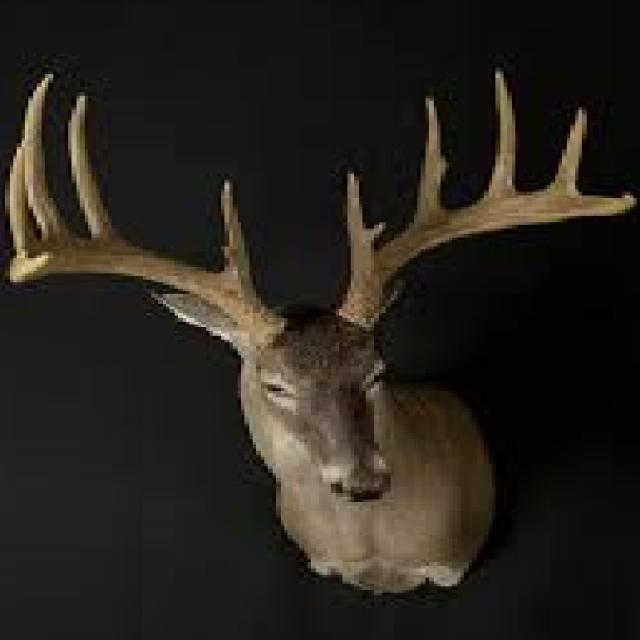E1: (366, 222, 388, 242)
L-F: (339, 190, 638, 332)
L-G1: (346, 172, 374, 274)
L-G2: (412, 94, 446, 226)
L-G3: (484, 69, 517, 198)
L-G4: (544, 107, 589, 197)
R-F: (4, 246, 286, 350)
R-G1: (220, 180, 255, 297)
R-G2: (68, 93, 117, 246)
R-G3: (23, 72, 70, 244)
